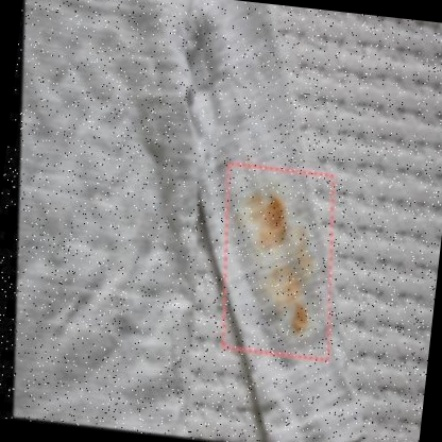kimchi: (228, 179, 323, 345)
